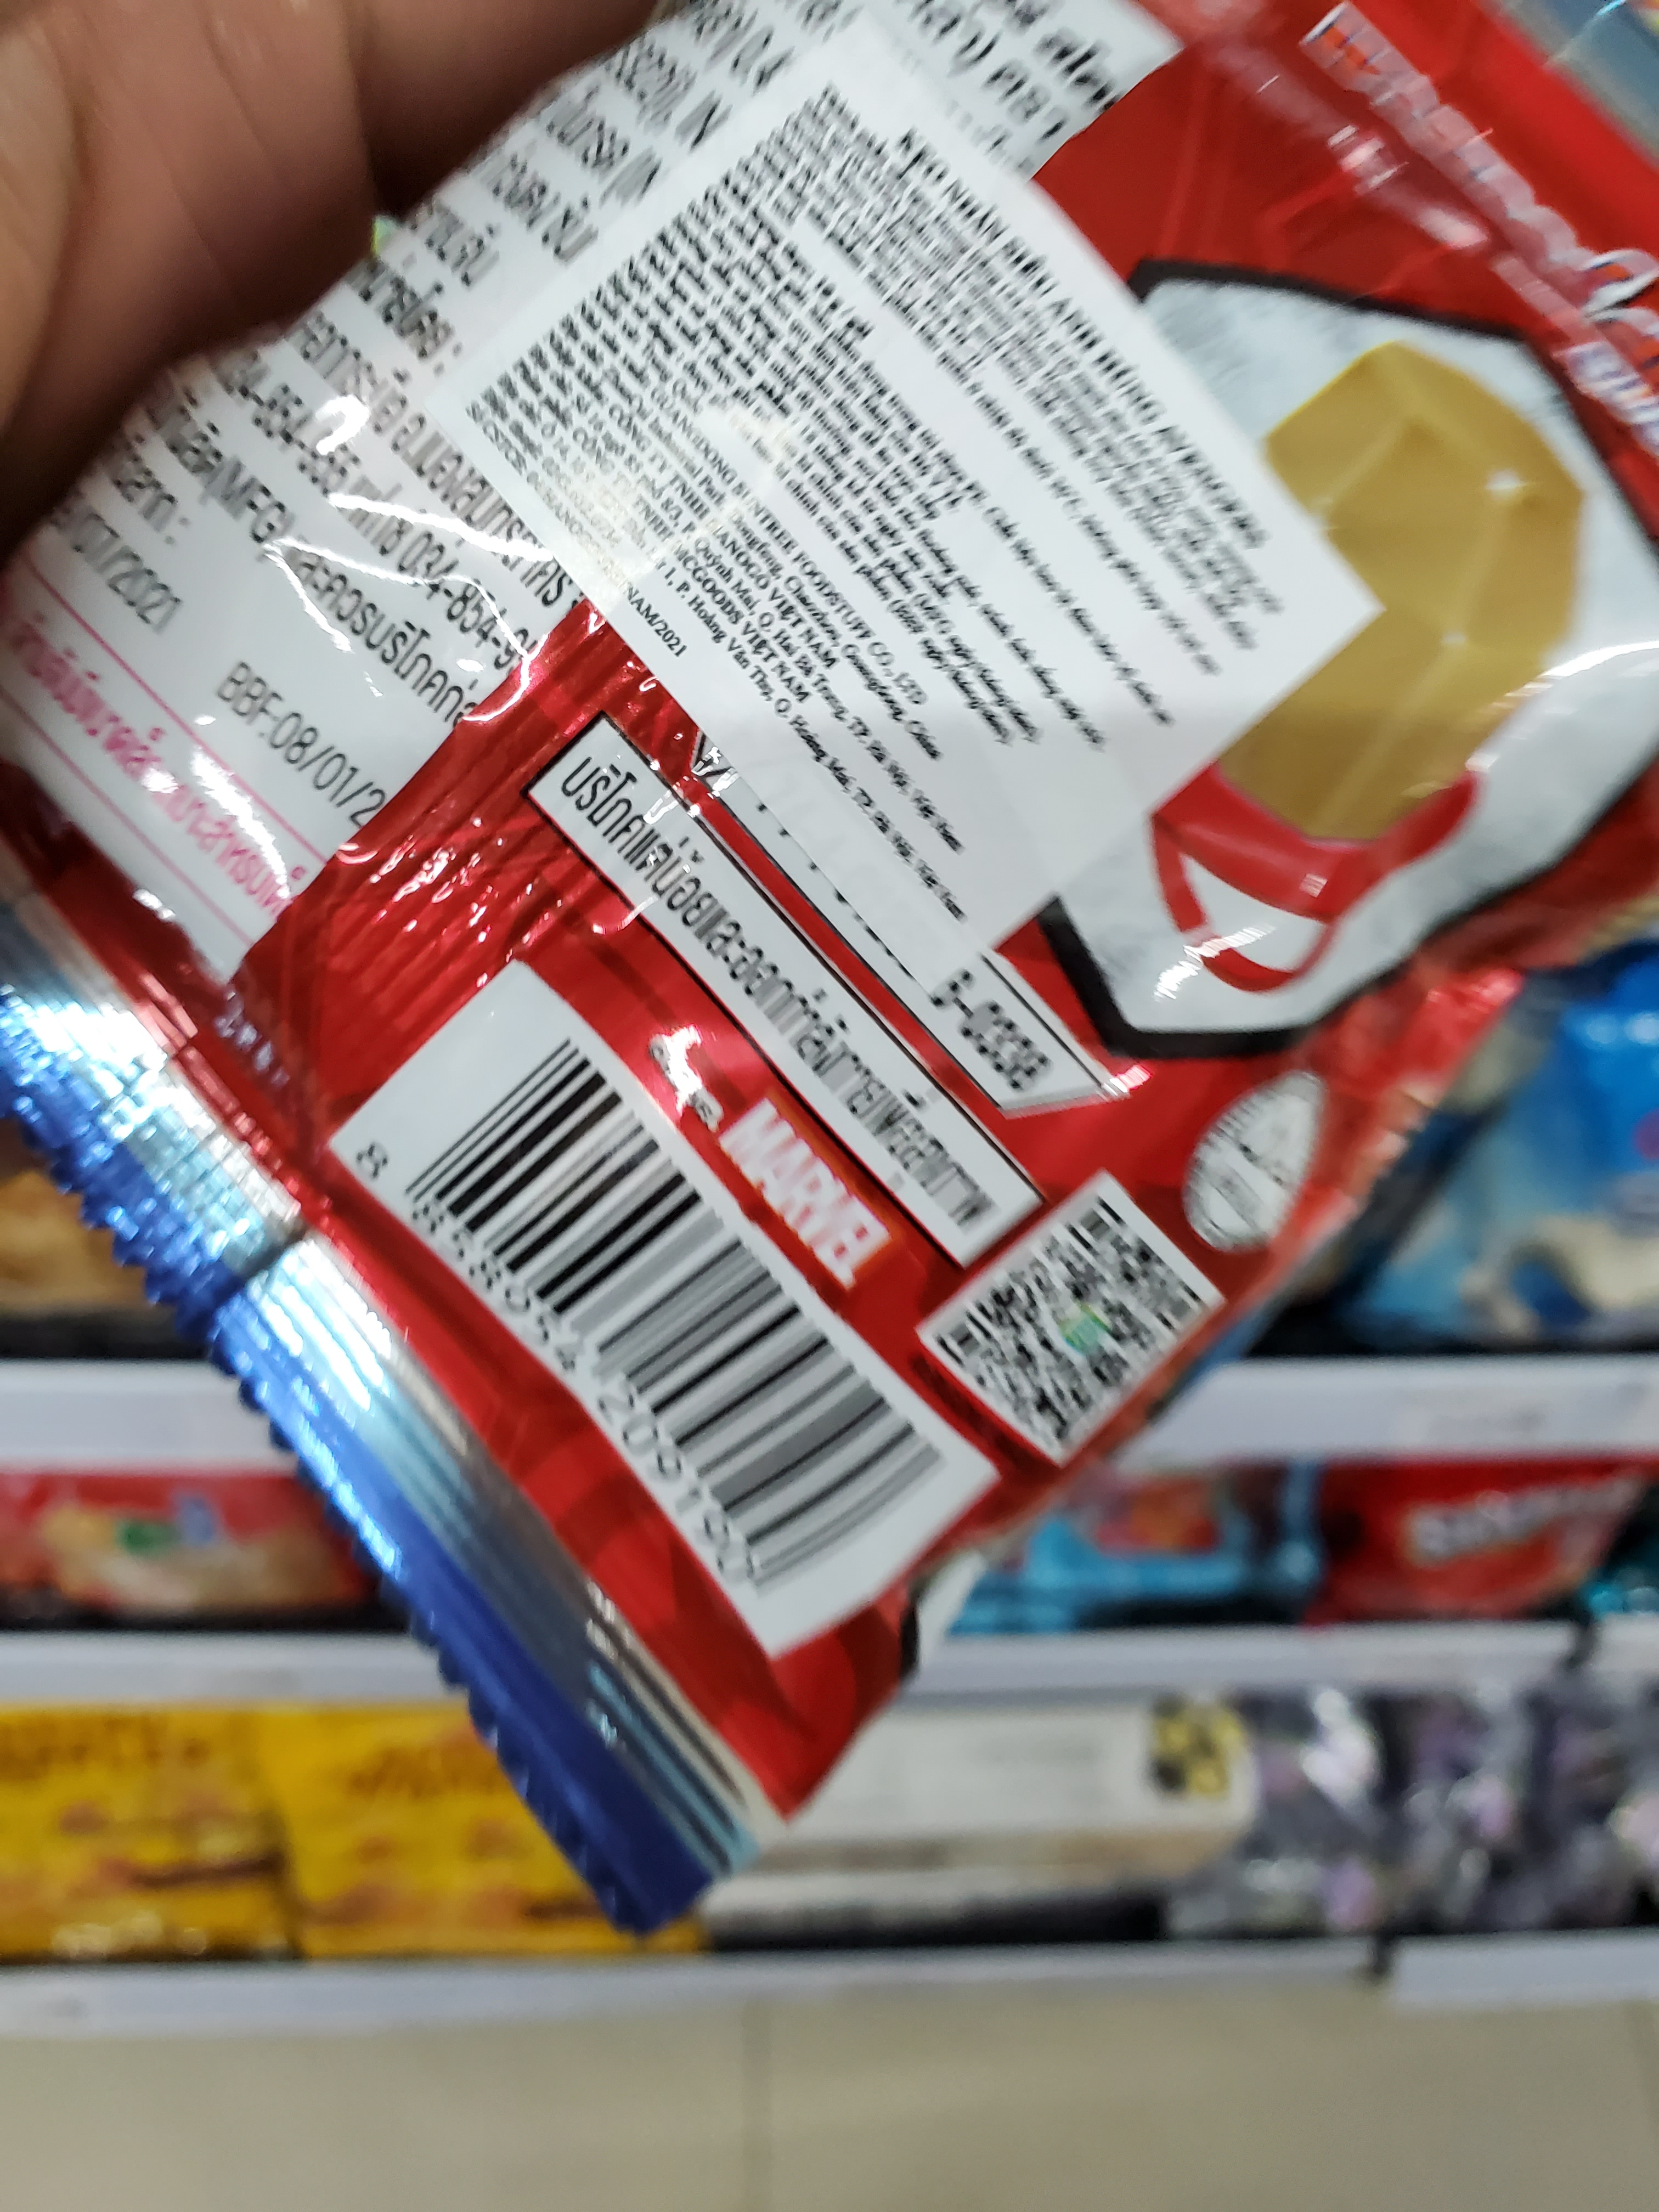BARCODE: (272, 1012, 943, 1649)
